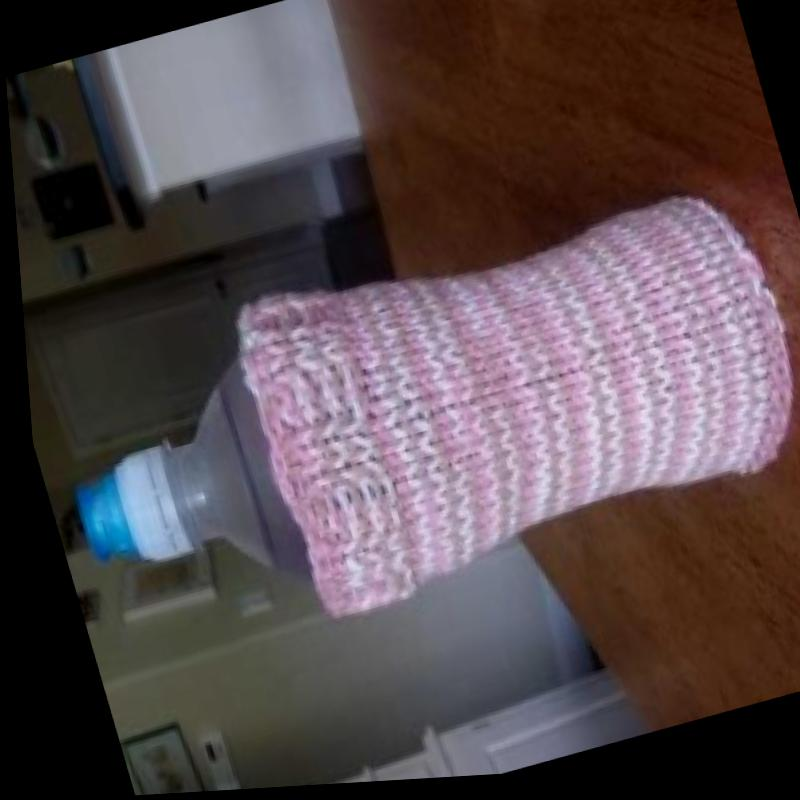botella: (34, 341, 313, 640)
